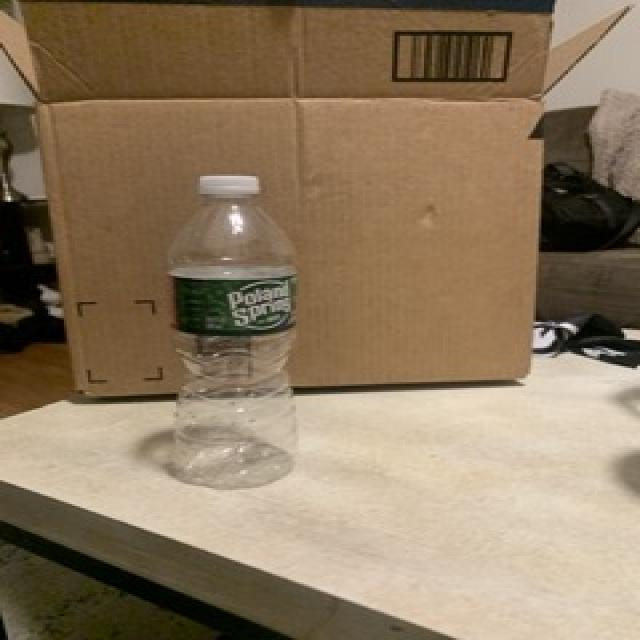water_bottle: (163, 170, 308, 490)
